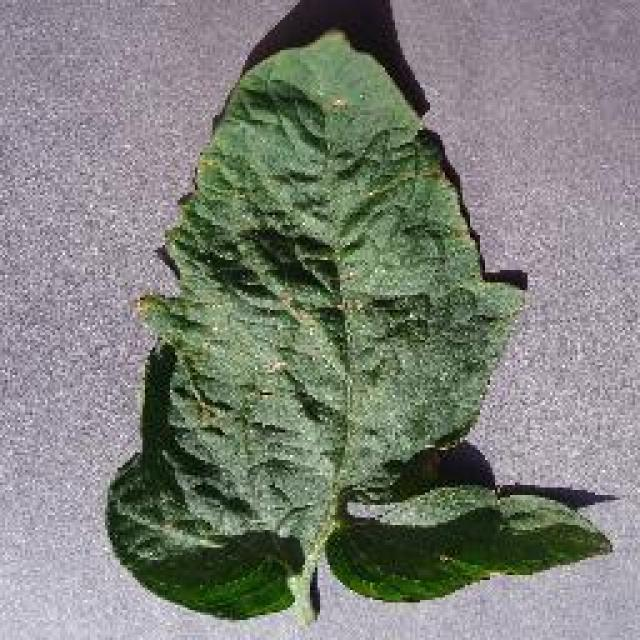Tomato Septoria spot leaf: (111, 32, 611, 608)
